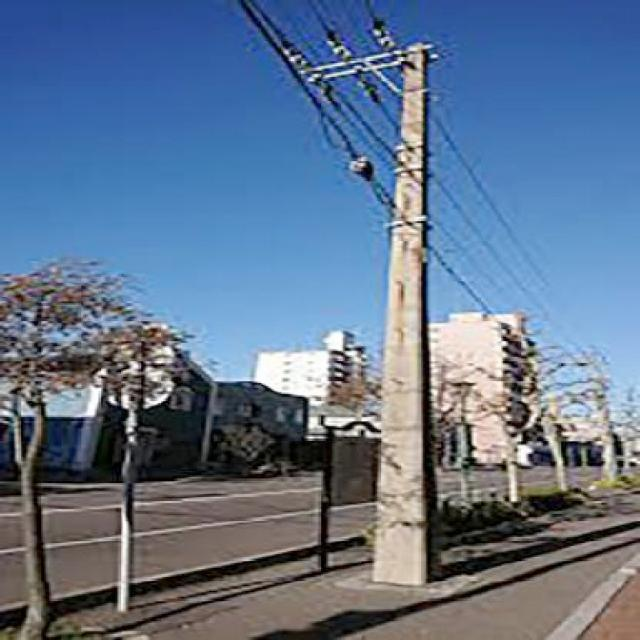crossarm: (303, 46, 432, 83)
pole: (371, 48, 431, 588)
wire: (237, 0, 494, 313), (309, 2, 537, 303), (364, 0, 549, 287)
